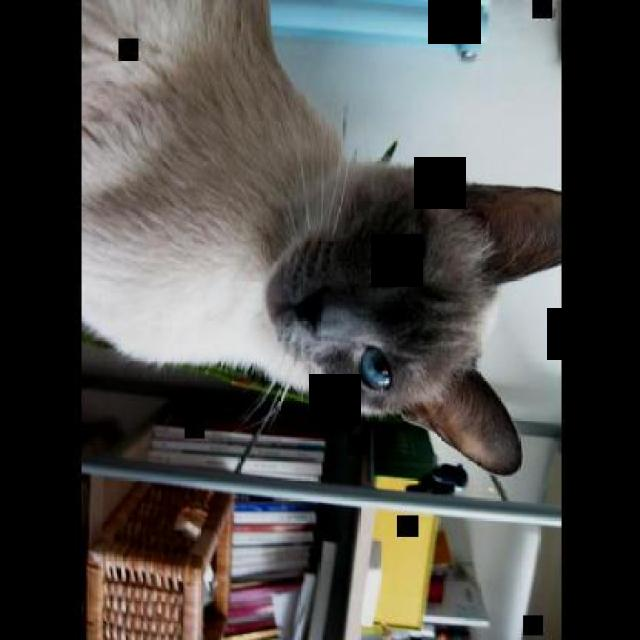unauthorized: (78, 0, 559, 475)
